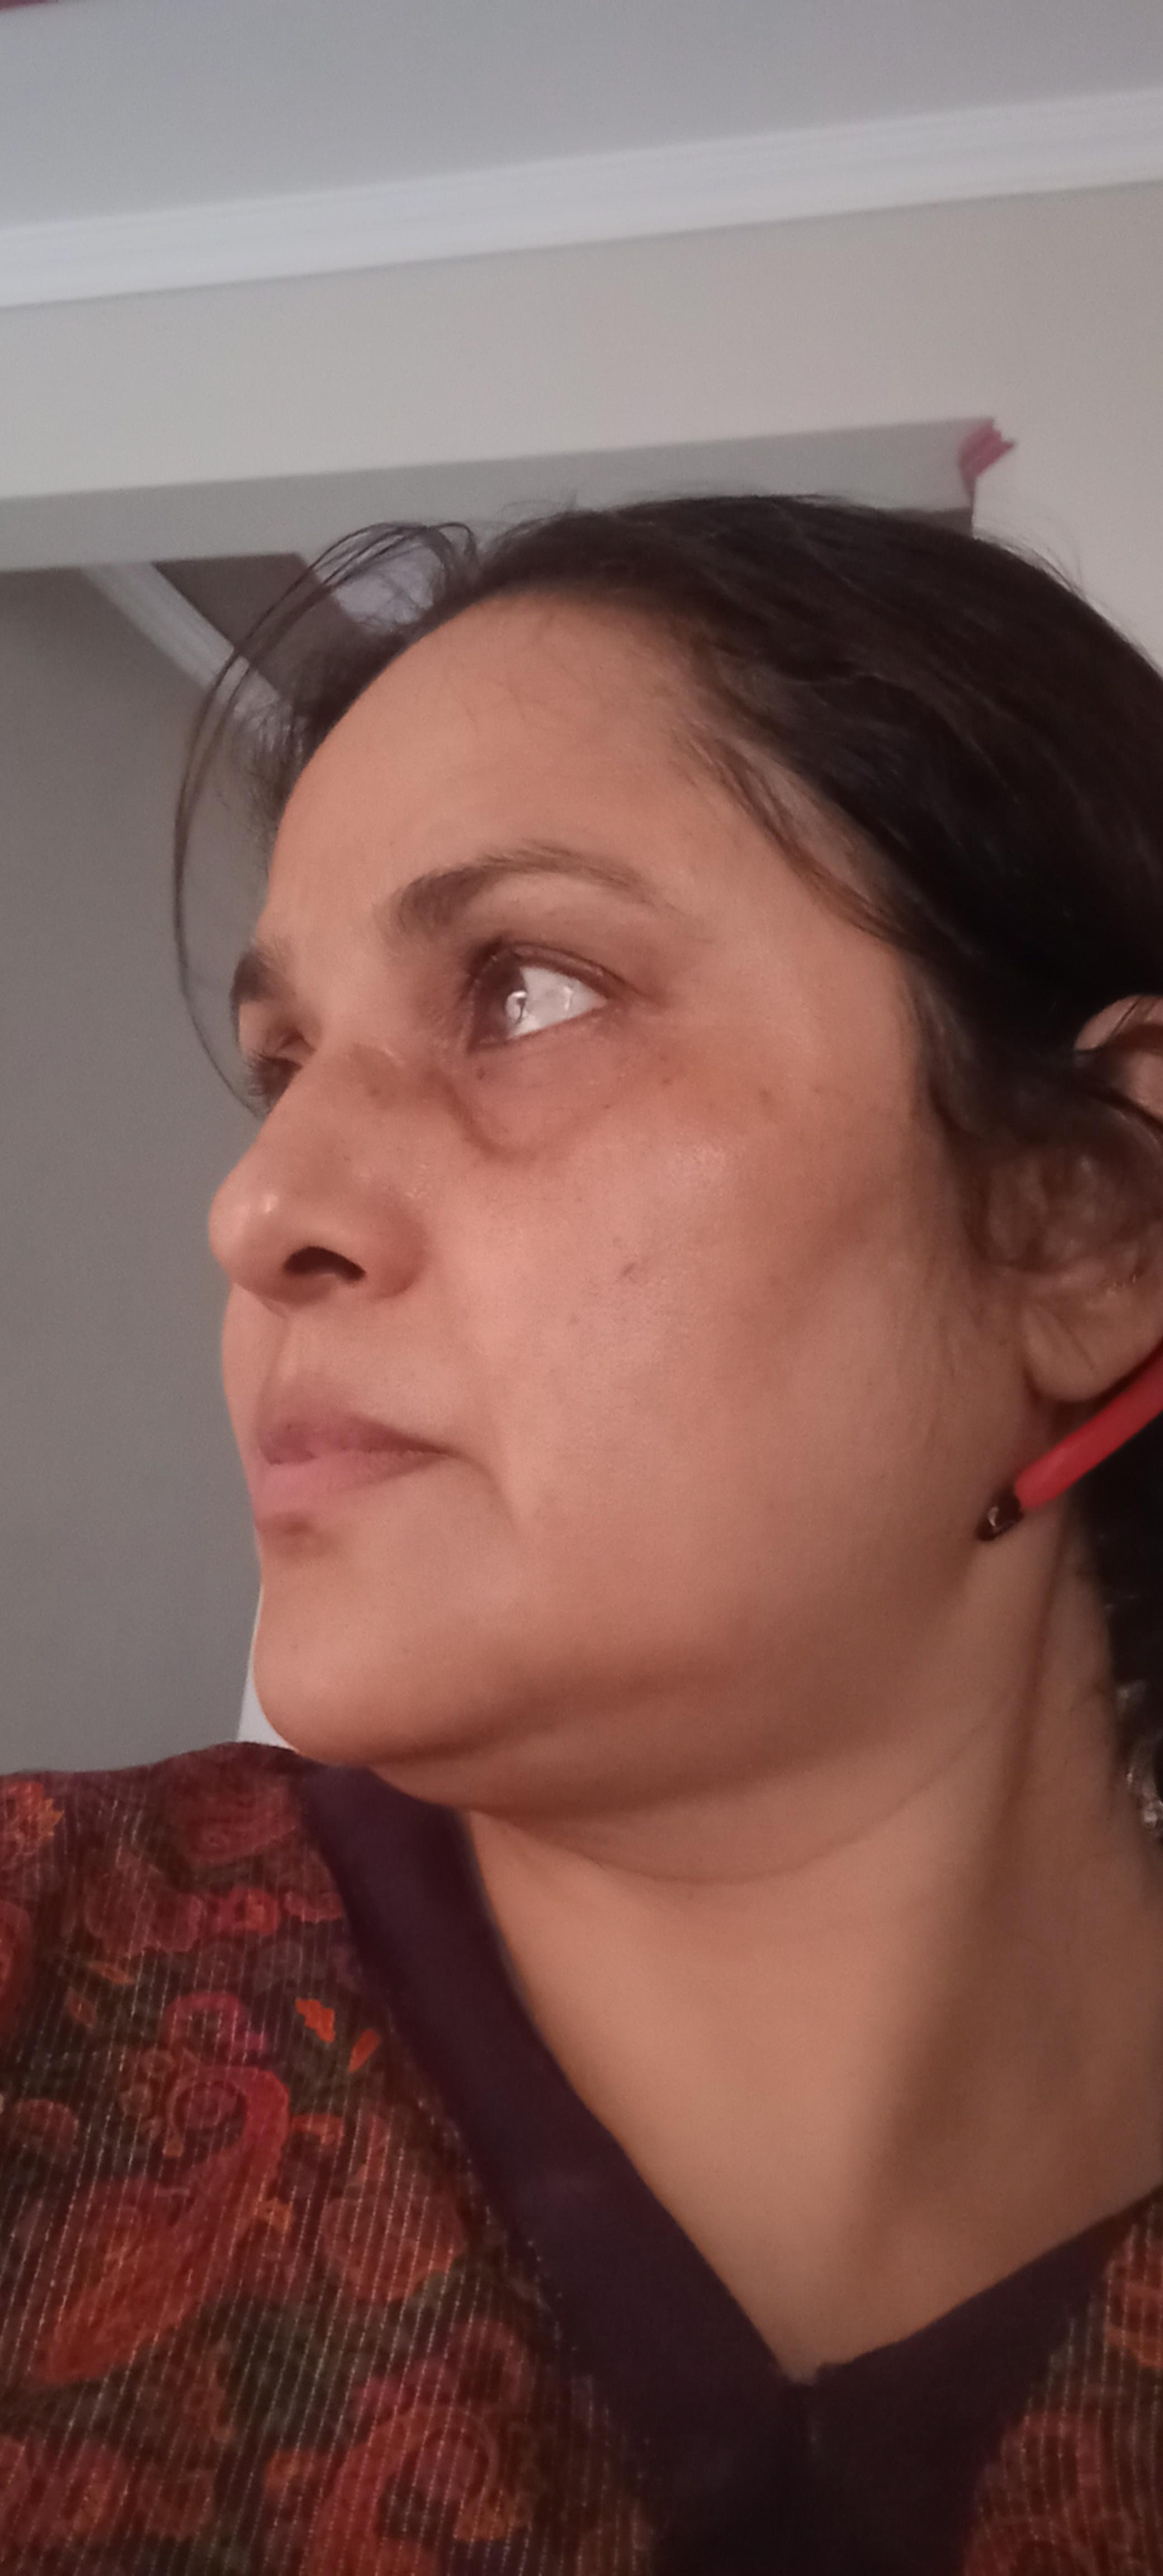Acne: (613, 1245, 644, 1291)
Wrinkles: (453, 1288, 501, 1446), (468, 1461, 526, 1548)
